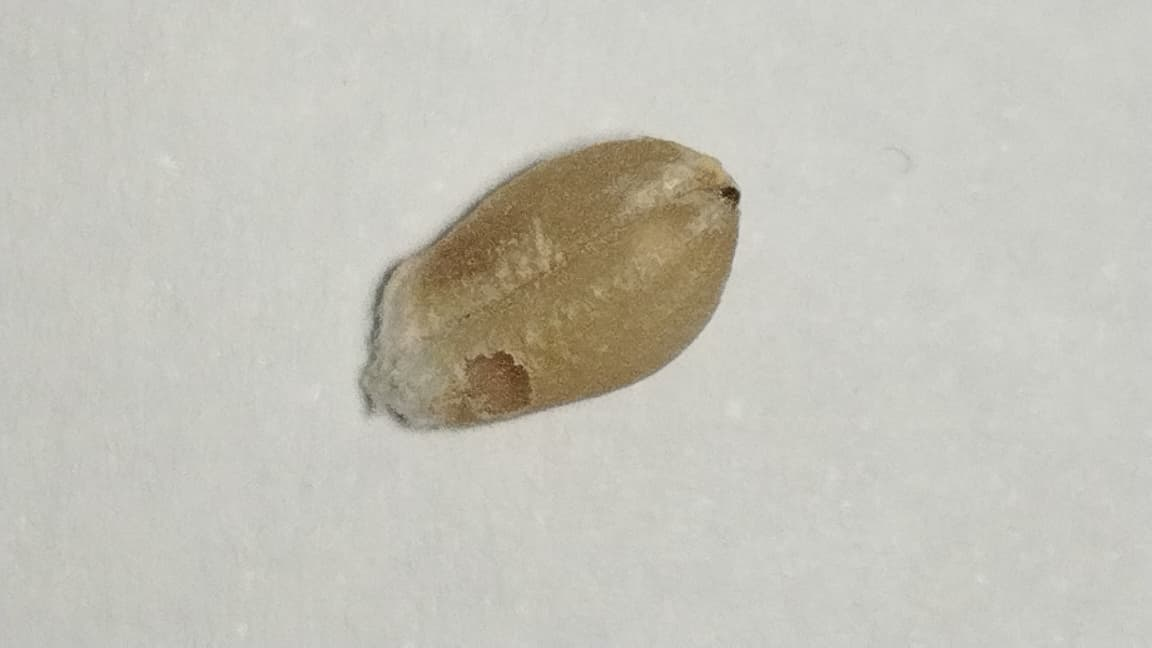damage: (360, 135, 739, 427)
insectdamage: (423, 339, 585, 434)
